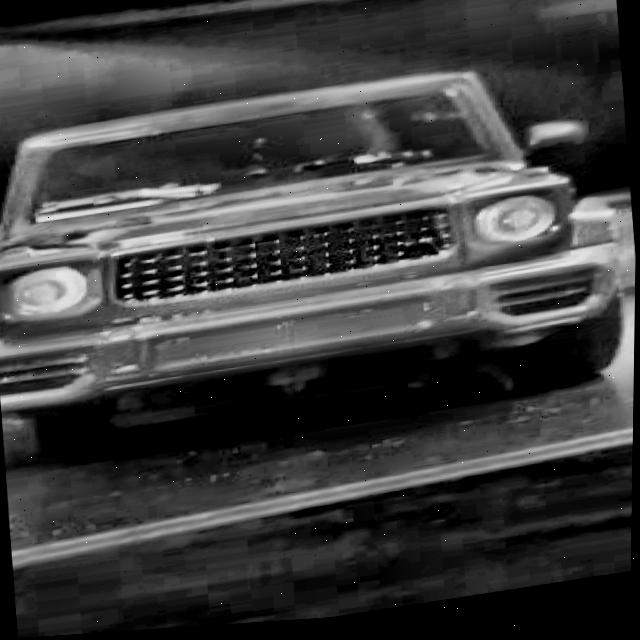light_vehicle: (0, 39, 631, 490)
